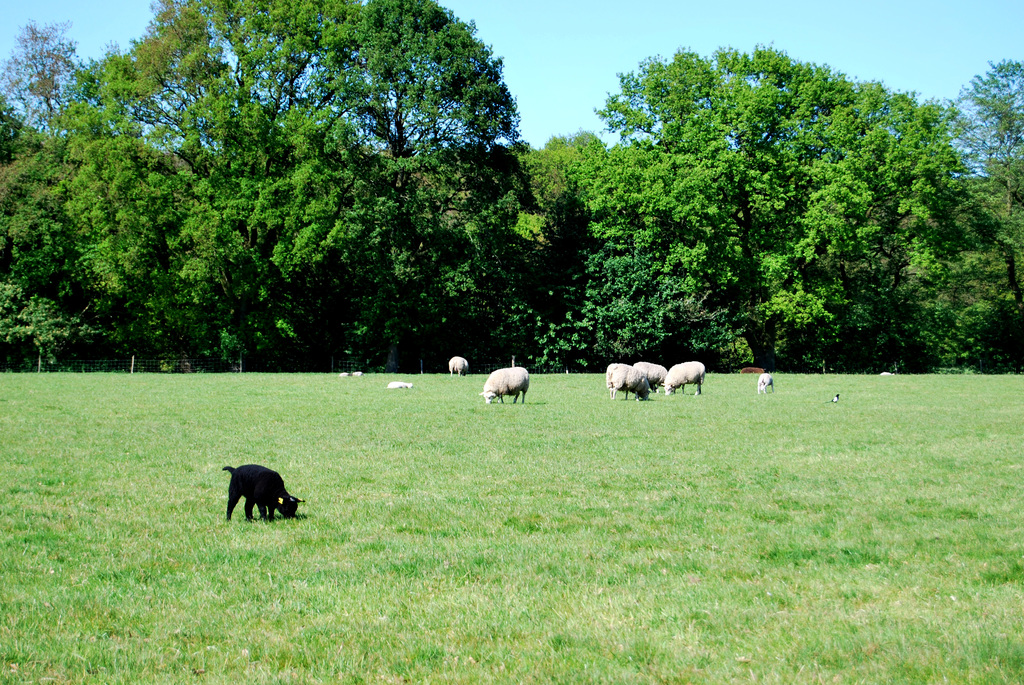sheep: (479, 365, 526, 400), (606, 364, 649, 401), (665, 363, 709, 397), (450, 358, 467, 375), (758, 376, 775, 392)
